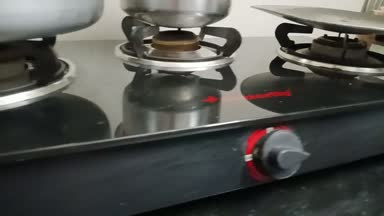flame_gas_off: (118, 14, 311, 184)
